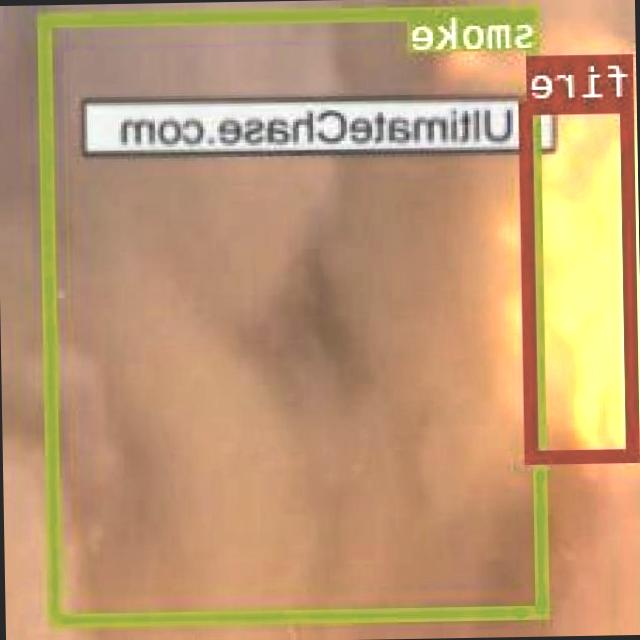fire: (522, 97, 640, 461)
smoke: (40, 4, 550, 625)
